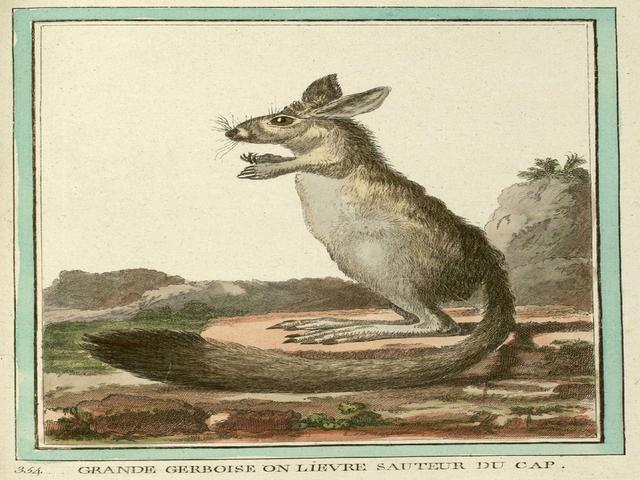kangaroo: (38, 46, 603, 403)
